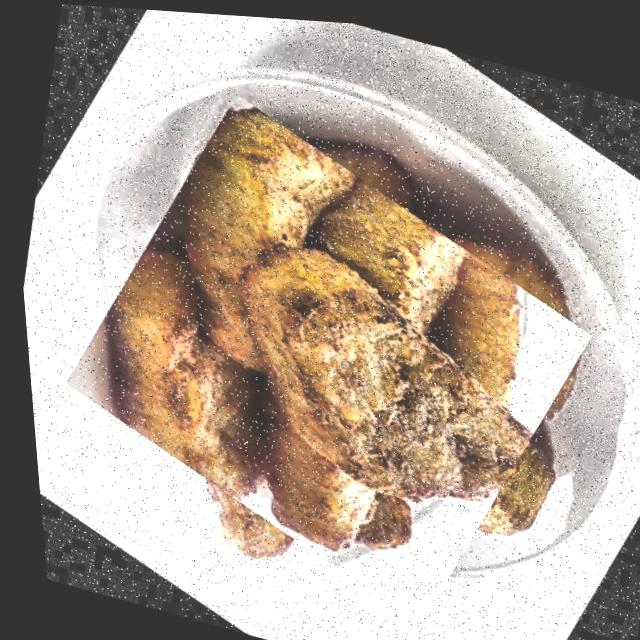Food: (11, 47, 633, 640)
